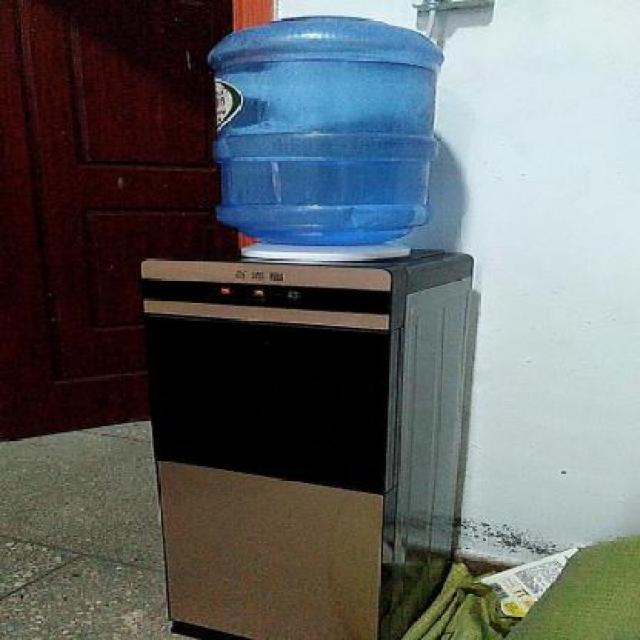cooler: (137, 12, 481, 640)
